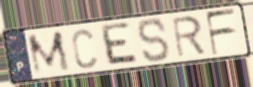C: (70, 28, 99, 71)
E: (100, 20, 141, 67)
F: (204, 7, 238, 57)
M: (25, 29, 73, 77)
R: (170, 14, 209, 60)
S: (136, 16, 172, 64)
